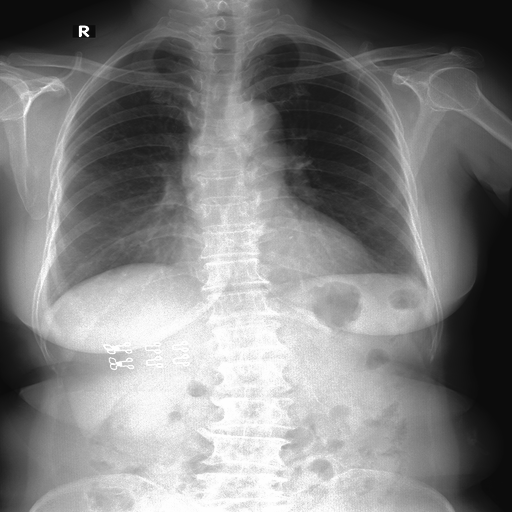Consolidation: (241, 99, 285, 137)
Nodule/Mass: (155, 212, 373, 270)
